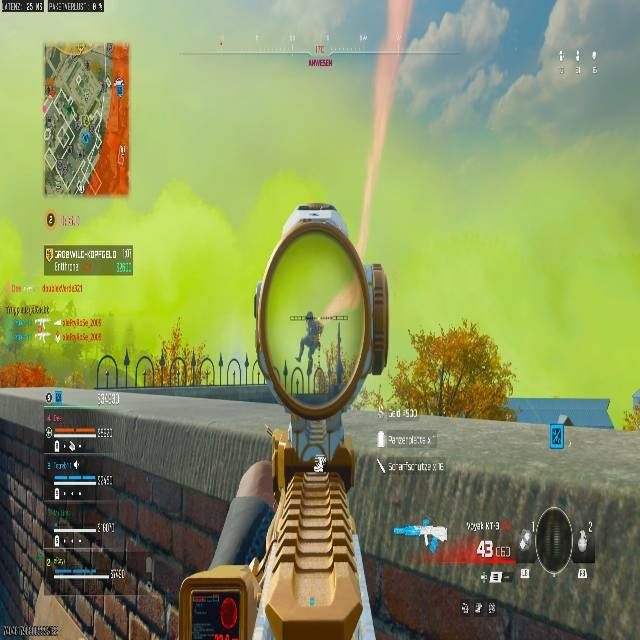head: (306, 311, 314, 320)
player: (395, 0, 512, 145), (295, 311, 322, 366)
